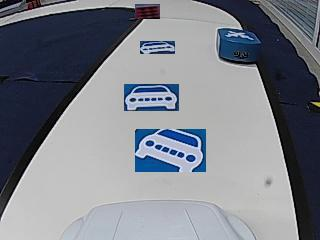prop: (217, 28, 260, 64)
